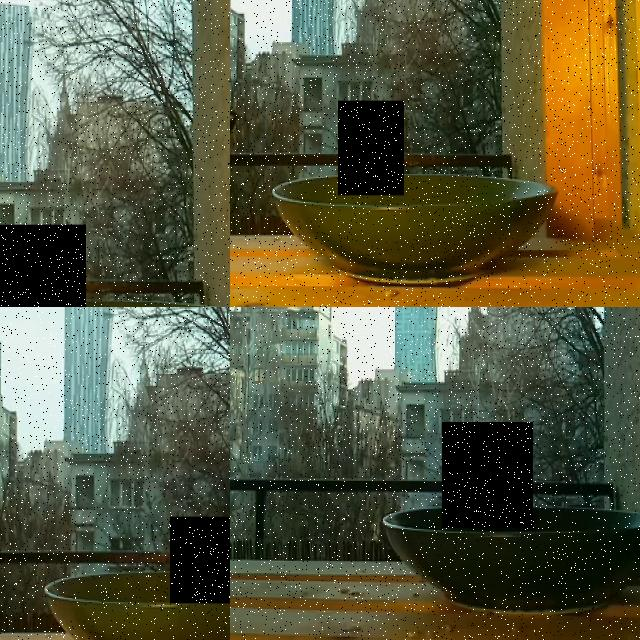Bogatka: (0, 224, 86, 307)
Modraszka: (338, 101, 404, 195)
Wrobel: (442, 422, 533, 530), (170, 516, 230, 603)
